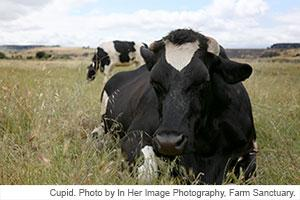muzzles: (150, 132, 192, 159)
